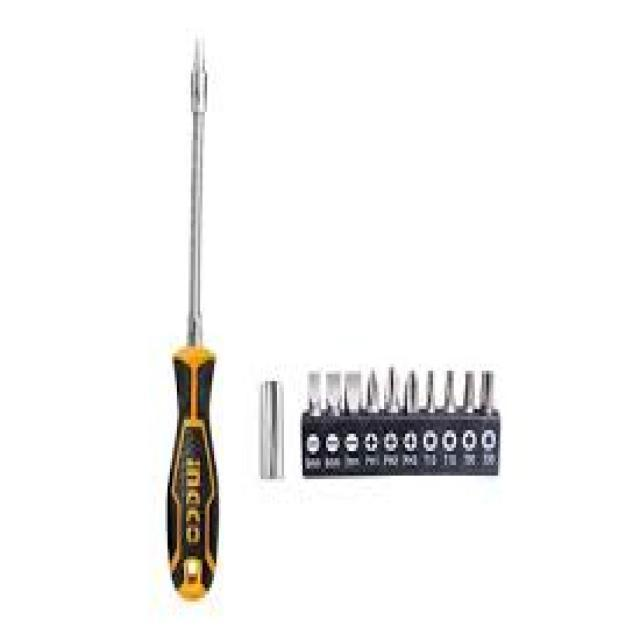screwdriver: (164, 28, 222, 609)
